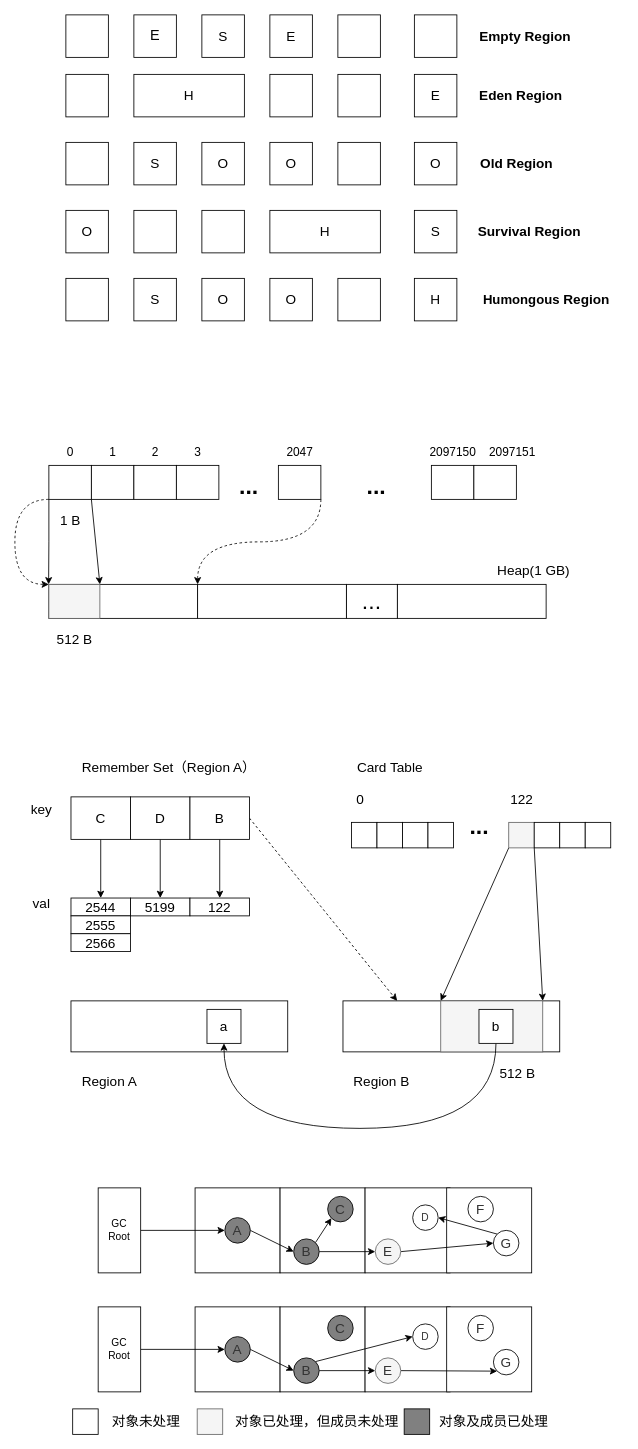
Some shapes in this 638 by 1449 pixel diagram are drawn without their labels. Here are the shapes that lost their labels. From the top down, the box of each, then its label:
(48, 584, 198, 618): Region 0
(197, 584, 346, 618): Region 1
(397, 584, 546, 618): Region N
